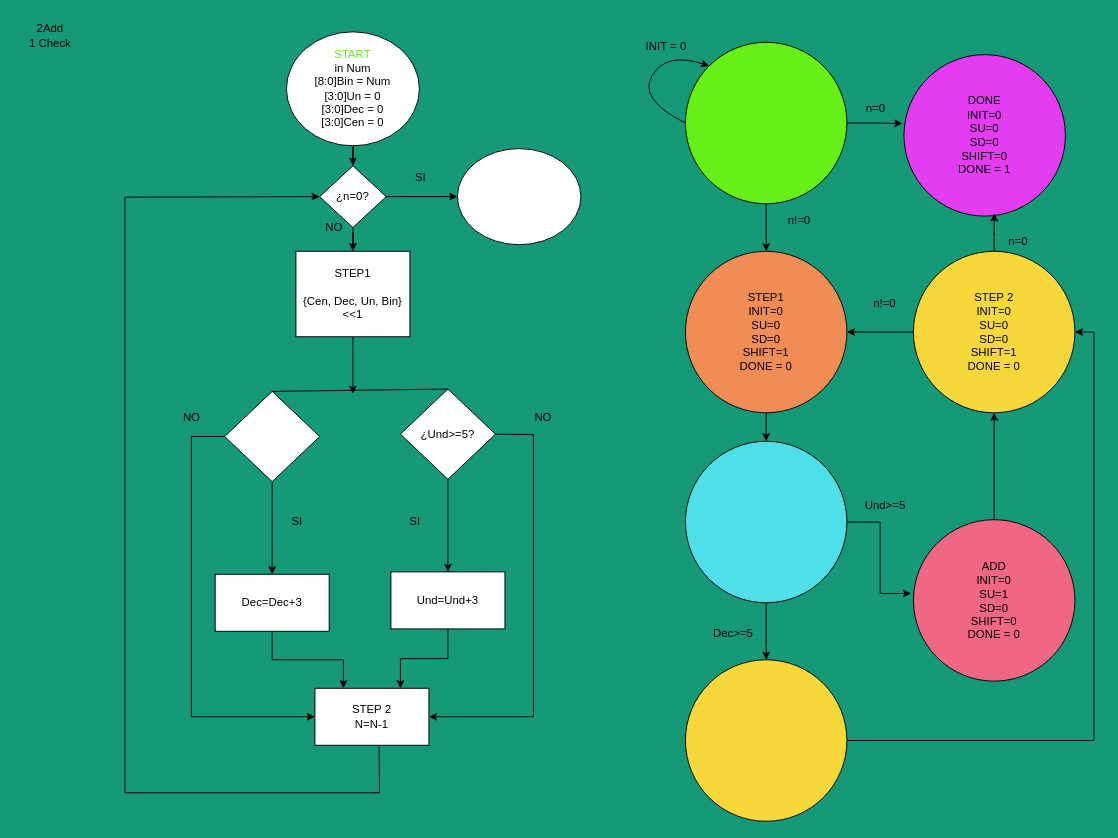
Image size: 1118x838. Some labels were removed from this diagram. Here are the shapes that lost their labels. From the top down, the centre of each, then its label:
At (x=765, y=122): "START INIT=1 SU=0 SD=0 SHIFT=0 DONE = 0".
At (x=518, y=196): "DONE".
At (x=272, y=436): "¿Dec >=5?".
At (x=765, y=521): "CHECK INIT=0 SU=0 SD=0 SHIFT=0 DONE = 0".
At (x=765, y=740): "ADD INIT=0 SU=0 SD=1 SHIFT=0 DONE = 0".
